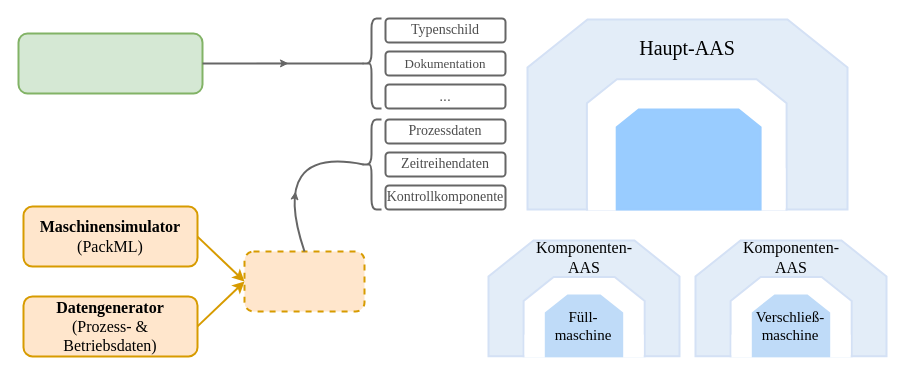
Some shapes in this 904 by 374 pixel diagram are drawn without their labels. The box of each missing label's shape, as (x1, y1, x2, y2) in pixels:
OPC UA Server: (243, 250, 365, 312)
robocell Abfüll- und Verschließmodul: (615, 108, 761, 210)
Unternehmenssysteme (Agile / PSI Penta): (17, 32, 203, 94)
